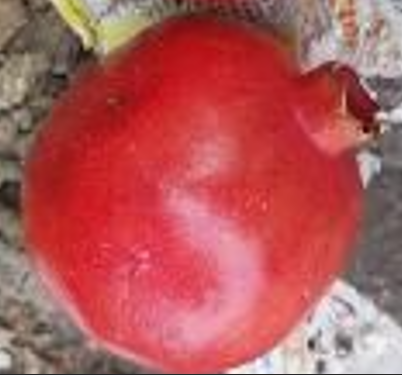pomegranate_A: (18, 10, 383, 375)
